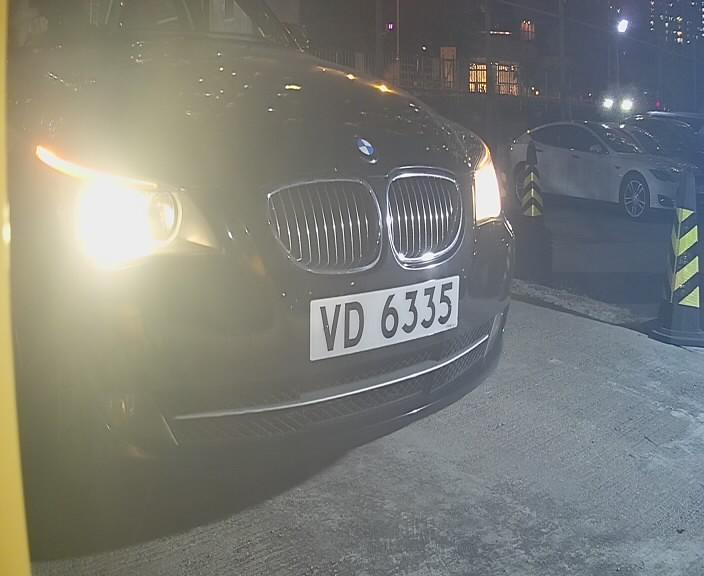Car: (29, 1, 610, 507)
License Plate: (299, 263, 463, 368)
